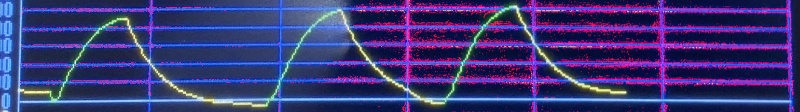normal_volume: (26, 2, 636, 112)
